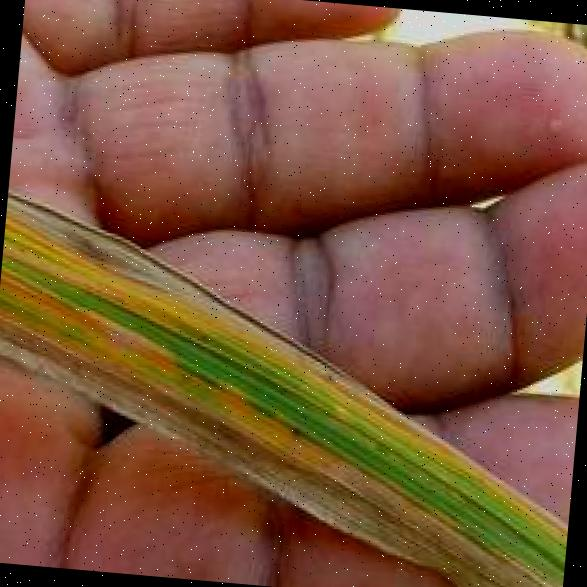Bacteria_Leaf_Blight: (0, 187, 475, 559)
